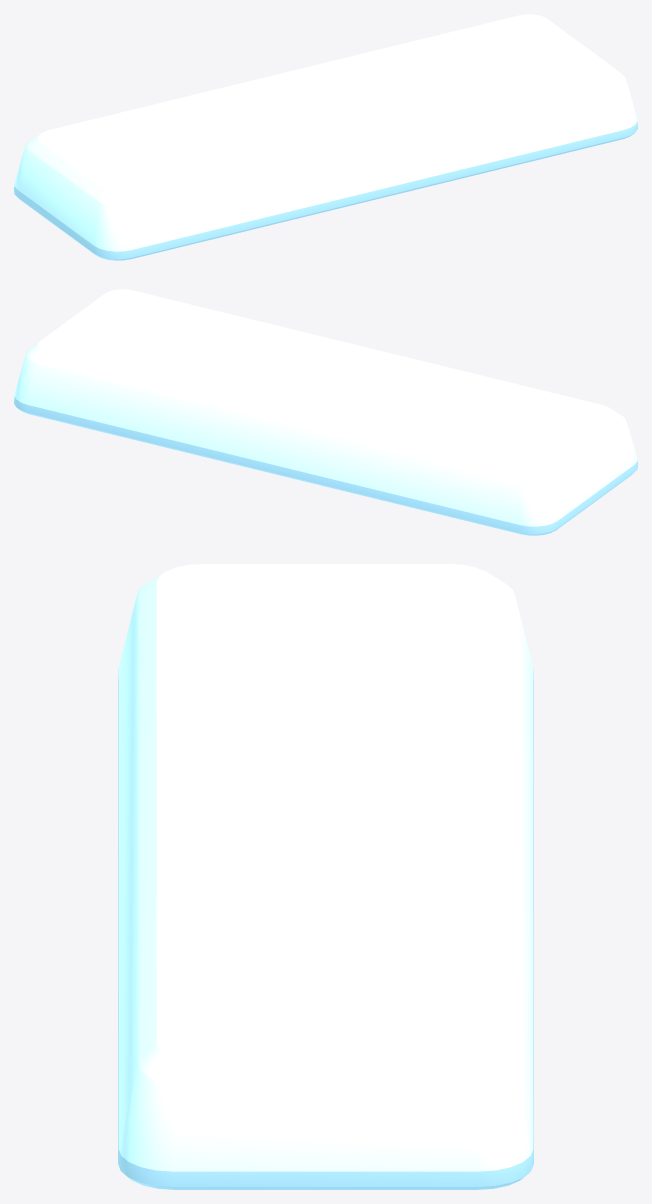
The model's file is props__KeycapWide.glb.
3 renders of one model, top to bottom at view 1: azimuth 30°, elevation 25°; view 2: azimuth 150°, elevation 25°; view 3: azimuth 270°, elevation 25°, orthographic. The views are drawn at different scales.
Parts seen in each view (by area): view 1: KeycapWide.001; view 2: KeycapWide.001; view 3: KeycapWide.001.
Part boxes in pixels (x1,y1,x2,y2): KeycapWide.001: (14, 14, 637, 260); KeycapWide.001: (14, 289, 637, 535); KeycapWide.001: (118, 564, 533, 1189).
Bounding box in the file's own units: 24 × 2.5 × 8.
